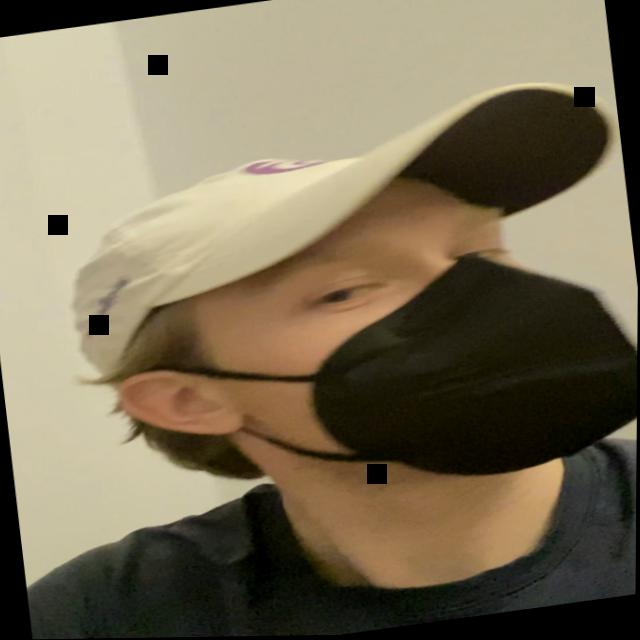Mask: (182, 150, 639, 513)
